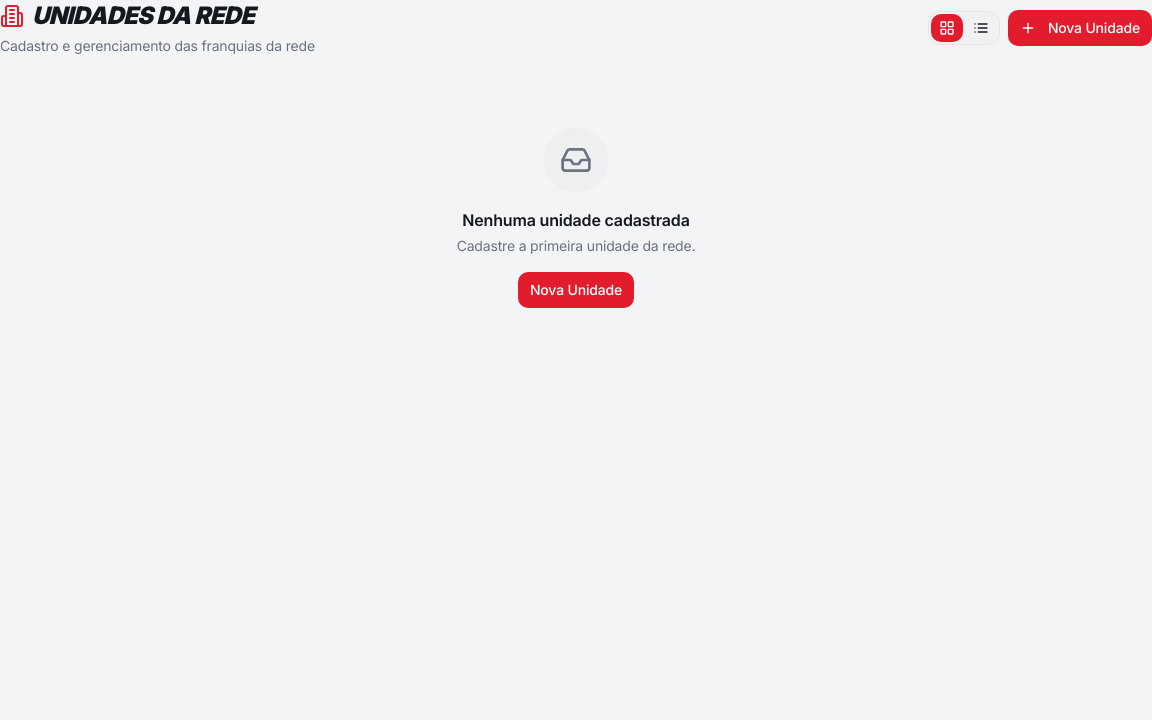
Scenario: Unidades — Wizard de Provisionamento › avança para passo 2 com nome preenchido
Step 1. Click the button "Nova Unidade" in the row of "Unidades da Rede" → (1080, 28), box x1=1008 y1=10 x2=1151 y2=46
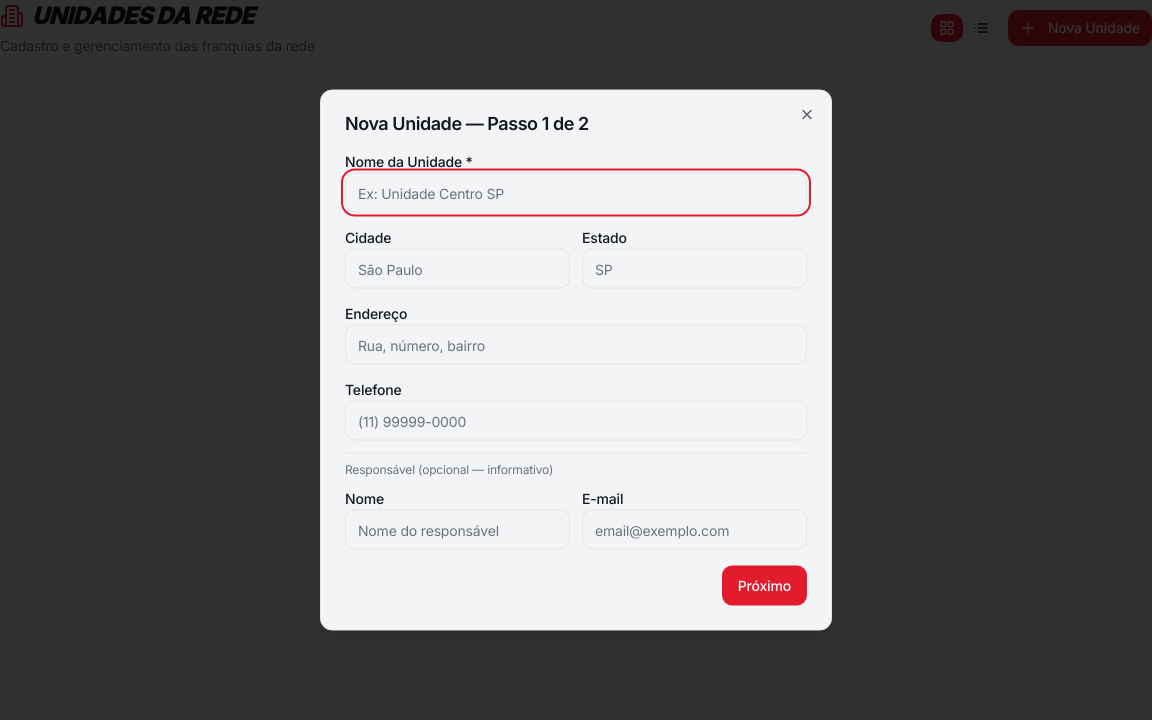
Step 2. Type "Unidade Teste" into the field with placeholder "Ex: Unidade Centro SP" → (576, 192), box x1=345 y1=172 x2=807 y2=212
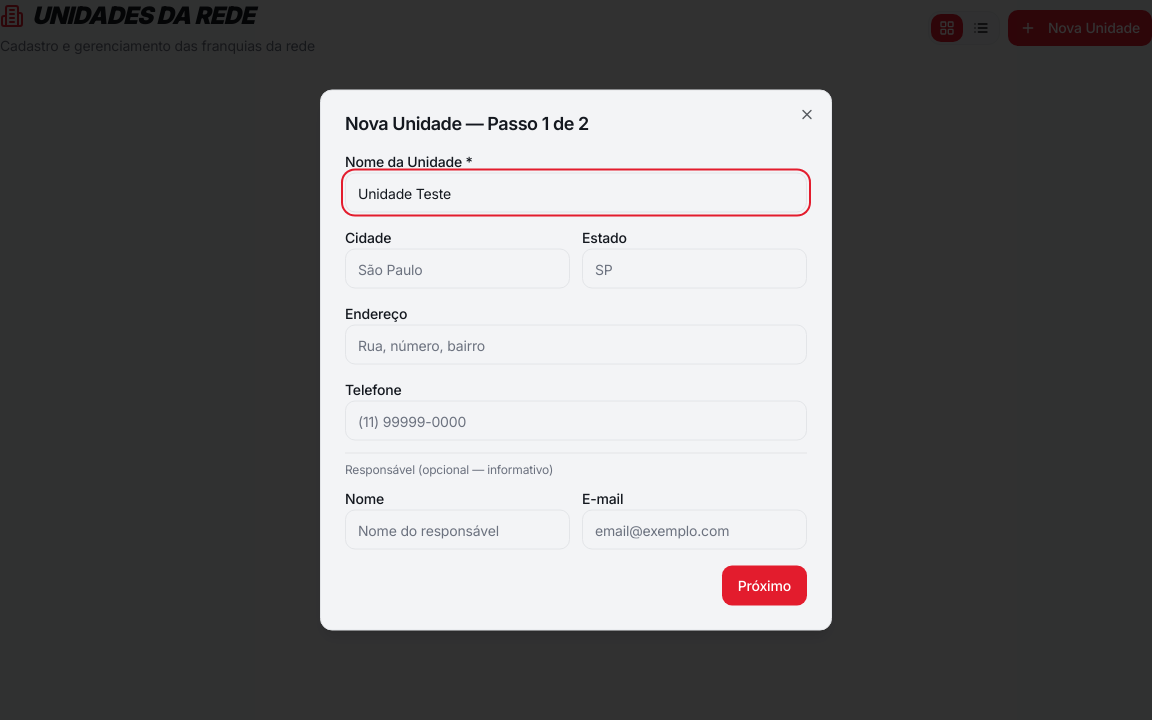
Step 3. Click the button "Próximo" → (764, 586), box x1=722 y1=566 x2=807 y2=606
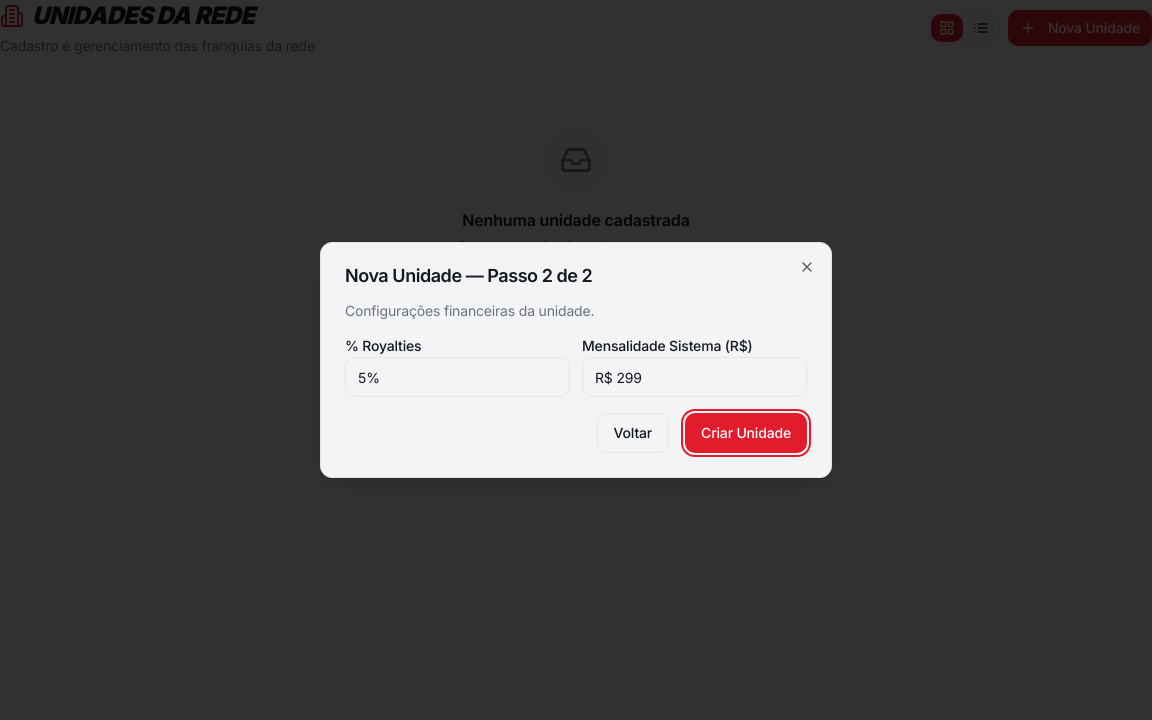
Result: the heading "Nova Unidade — Passo 2 de 2" is shown at x1=345 y1=265 x2=592 y2=286
Result: the text "% Royalties" is shown at x1=345 y1=337 x2=422 y2=354
